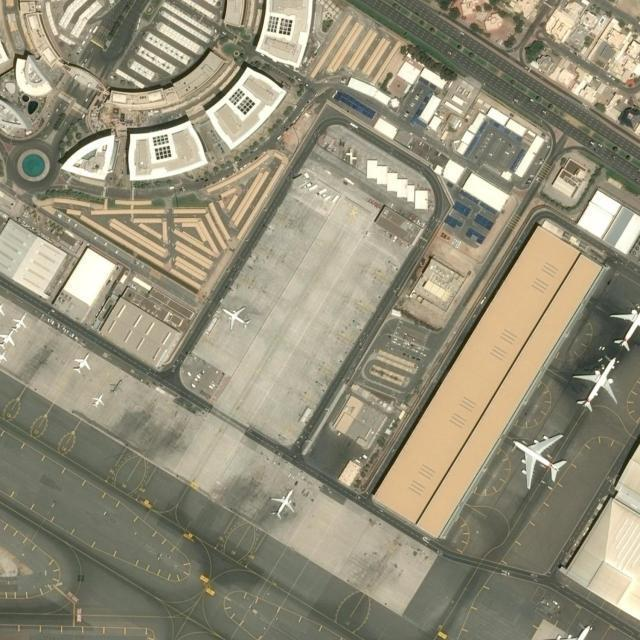Aircraft: (511, 430, 567, 488), (572, 351, 620, 411), (609, 302, 640, 350), (541, 621, 599, 640), (267, 488, 295, 518), (221, 303, 250, 330), (73, 352, 92, 374), (0, 328, 18, 350), (12, 312, 28, 331), (109, 379, 123, 395), (91, 395, 105, 408), (0, 350, 7, 363), (0, 300, 5, 318)
